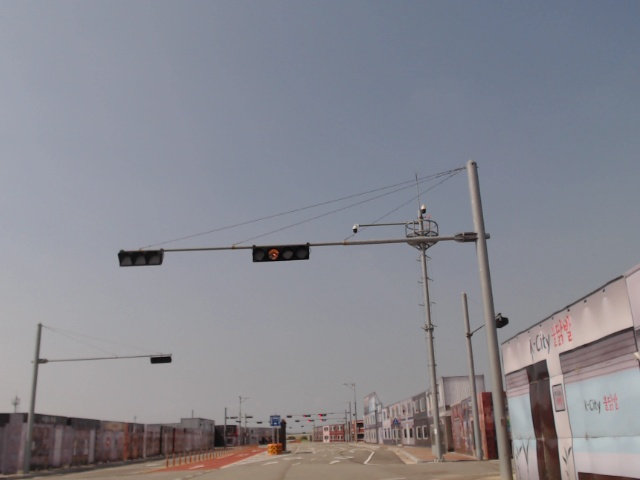orange_4: (252, 245, 311, 262)
